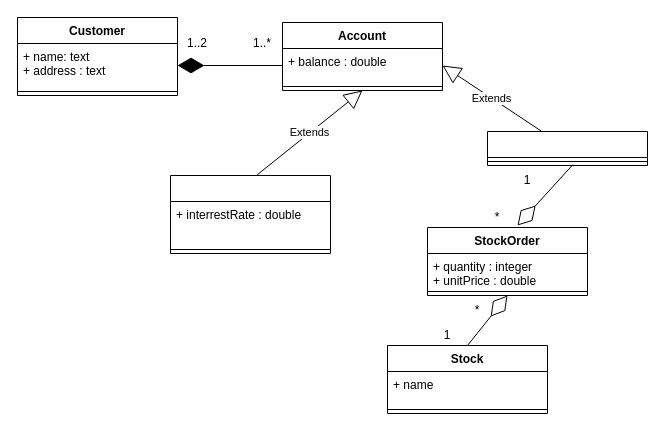
The diagram is 665 pixels wide and 431 high, and some of its shapes have lost their labels. The shapes that lost their labels are listed below. From the top down, each one's box as (x1, y1, x2, y2) in pixels, then its label:
(486, 130, 648, 166): Investment
(170, 174, 330, 254): Savings
